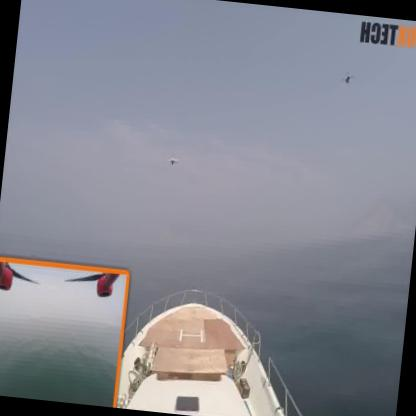drone: (166, 152, 181, 167)
